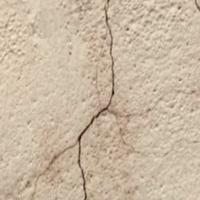crack: (65, 0, 137, 199)
